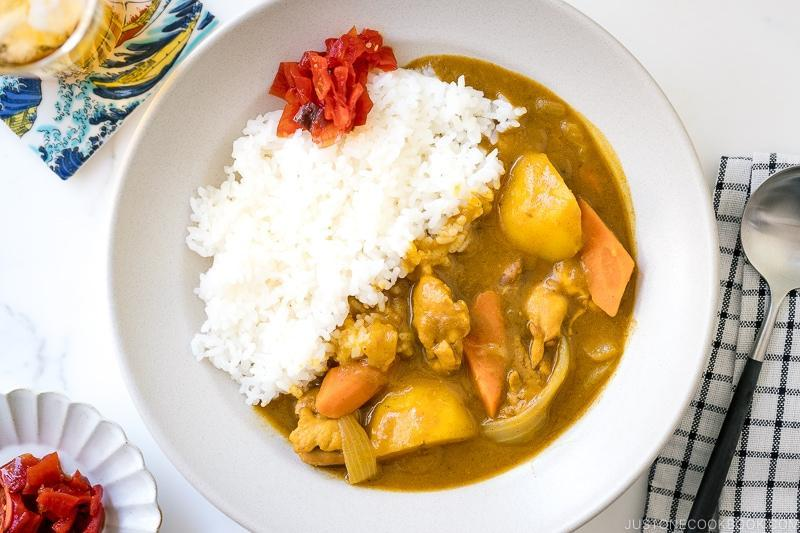chicken: (374, 164, 661, 508)
rice: (156, 76, 463, 363)
